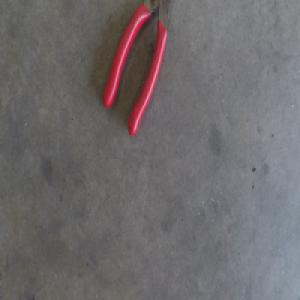Pliers: (101, 0, 171, 136)
